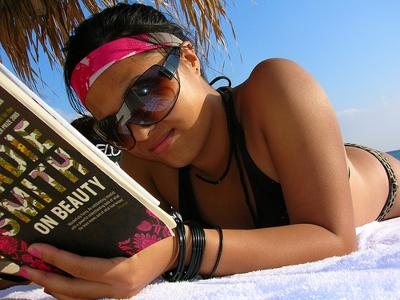person: (18, 4, 400, 299)
